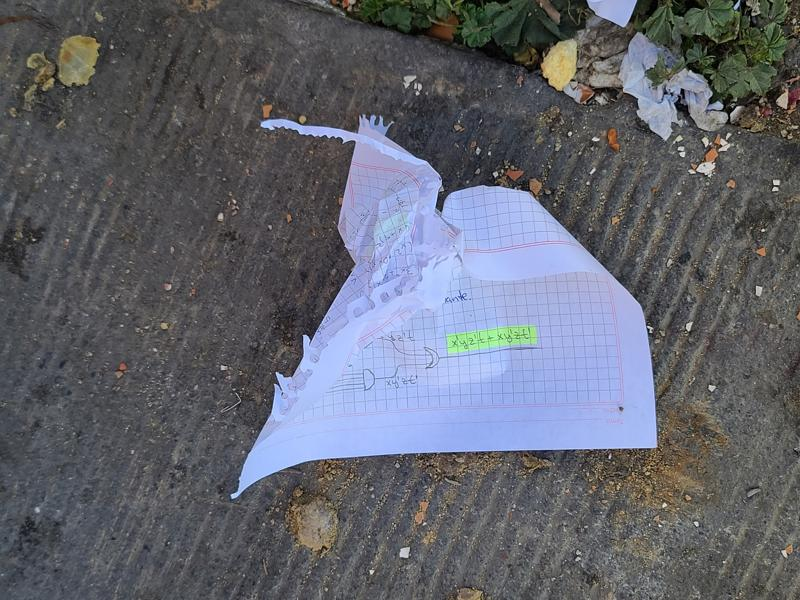papel: (232, 117, 659, 497)
